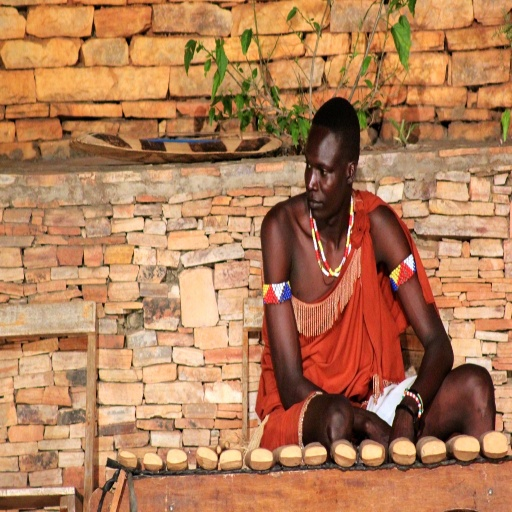hand: (364, 410, 392, 462), (389, 409, 416, 462)
